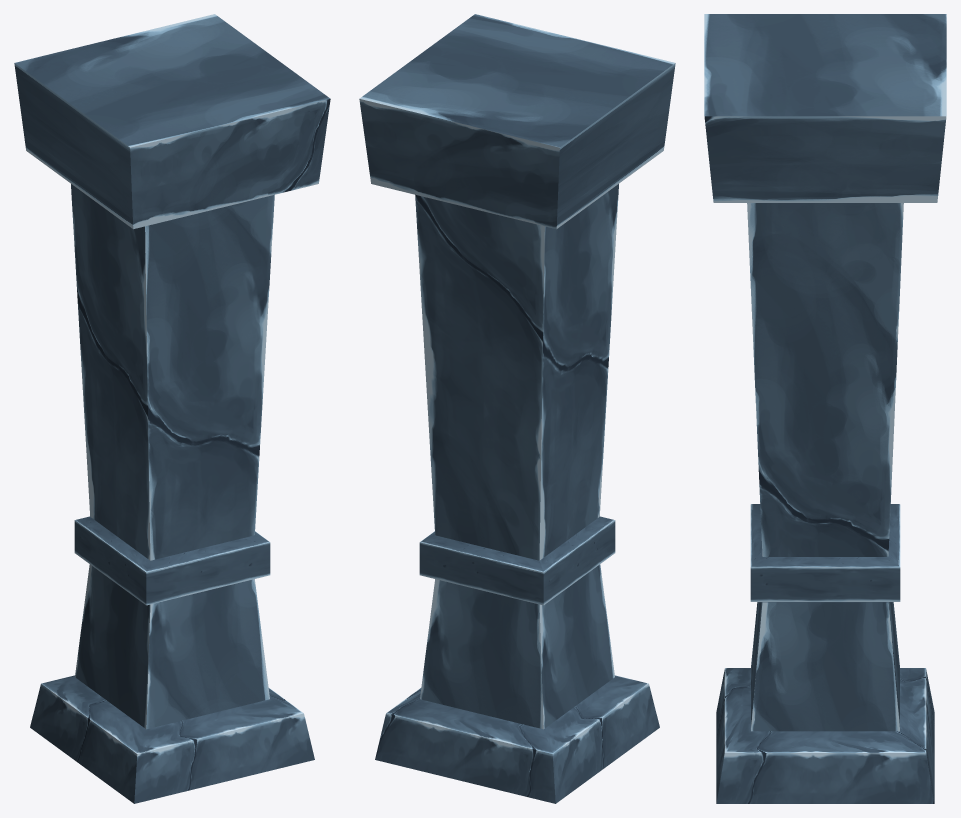
Rendered from SM_PROP_column_big_v01_01.fbx.
The picture shows the model from 3 angles, left to right: view 1: azimuth 30°, elevation 25°; view 2: azimuth 150°, elevation 25°; view 3: azimuth 270°, elevation 25°; orthographic projection. The views are drawn at different scales.
Parts seen in each view (by area): view 1: SM_PROP_column_big_v01_01; view 2: SM_PROP_column_big_v01_01; view 3: SM_PROP_column_big_v01_01.
Part boxes in pixels (left/top/right/bottom): SM_PROP_column_big_v01_01: left=14, top=14, right=330, bottom=803; SM_PROP_column_big_v01_01: left=359, top=14, right=675, bottom=803; SM_PROP_column_big_v01_01: left=704, top=14, right=946, bottom=803.
Bounding box in the file's own units: 120 × 380 × 120.
